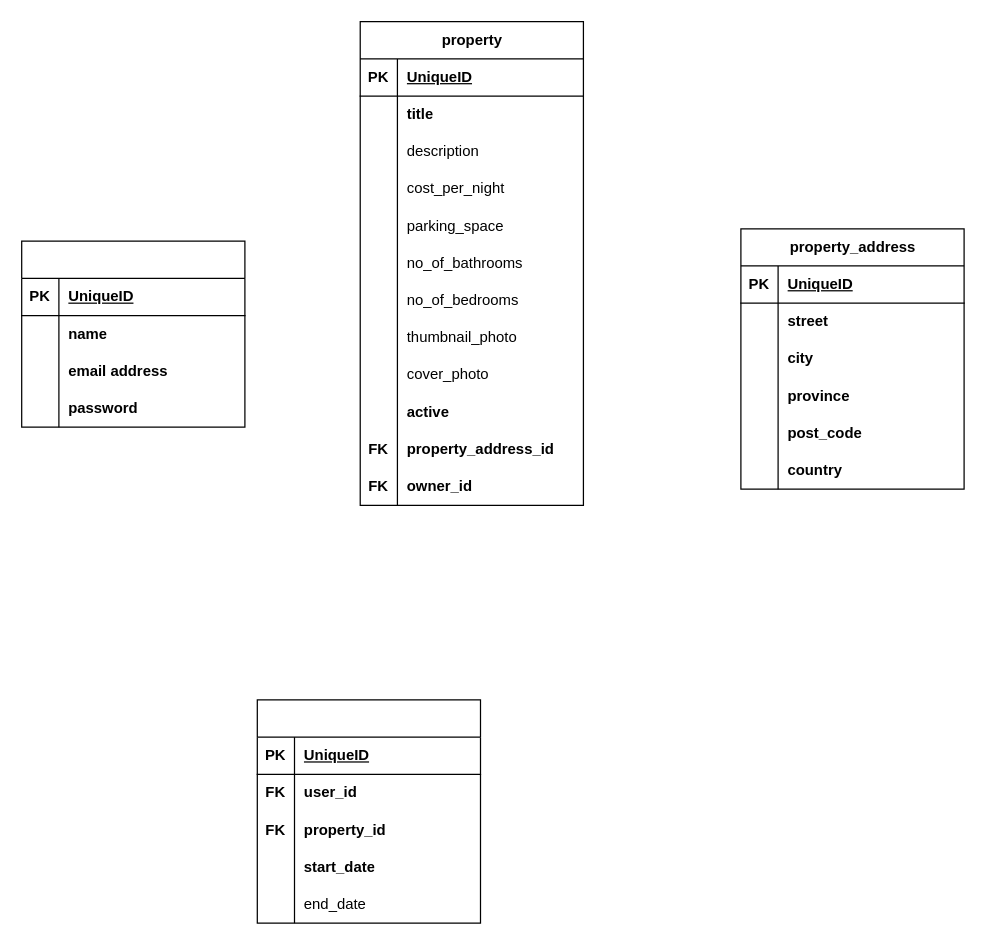
This 986x945 diagram has some shape labels left out. Here are the shapes that lost their labels. From the top down, the box of each, then its label:
(20, 240, 245, 427): user
(256, 699, 480, 923): reservation
